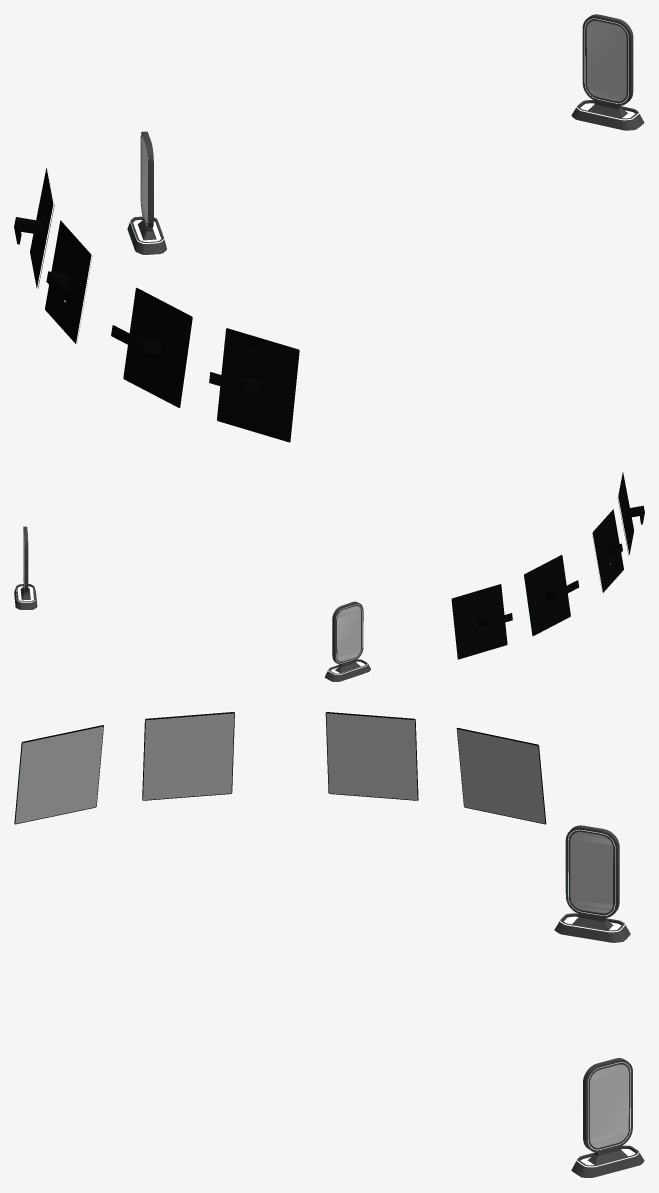
The model's file is Banner_moon (1).fbx.
The picture shows the model from 3 angles, top to bottom: view 1: azimuth 30°, elevation 25°; view 2: azimuth 150°, elevation 25°; view 3: azimuth 270°, elevation 25°; orthographic projection. The views are drawn at different scales.
Parts seen in each view (by area): view 1: Cars_Screen_007, Cars_Screen_008, SM_TRAFFIC_LAMP_003, Cars_Screen_006, SM_TRAFFIC_LAMP_001, Cars_Screen_002; view 2: Cars_Screen_002, Cars_Screen_006, SM_TRAFFIC_LAMP_001, Cars_Screen_008, SM_TRAFFIC_LAMP_003, Cars_Screen_007; view 3: Cars_Screen_008, Cars_Screen_006, Cars_Screen_007, Cars_Screen_002, SM_TRAFFIC_LAMP_001, SM_TRAFFIC_LAMP_003.
Boxes of the visible parts, left/top/right/bottom form: Cars_Screen_007: left=209, top=328, right=299, bottom=442; Cars_Screen_008: left=111, top=287, right=193, bottom=408; SM_TRAFFIC_LAMP_003: left=571, top=14, right=644, bottom=131; Cars_Screen_006: left=45, top=220, right=92, bottom=344; SM_TRAFFIC_LAMP_001: left=127, top=131, right=167, bottom=255; Cars_Screen_002: left=14, top=167, right=54, bottom=288; Cars_Screen_002: left=451, top=584, right=512, bottom=659; Cars_Screen_006: left=523, top=554, right=579, bottom=636; SM_TRAFFIC_LAMP_001: left=324, top=601, right=371, bottom=682; Cars_Screen_008: left=592, top=509, right=623, bottom=592; SM_TRAFFIC_LAMP_003: left=14, top=526, right=37, bottom=610; Cars_Screen_007: left=617, top=471, right=644, bottom=555; Cars_Screen_008: left=142, top=711, right=234, bottom=800; Cars_Screen_006: left=325, top=711, right=418, bottom=800; Cars_Screen_007: left=14, top=724, right=103, bottom=824; Cars_Screen_002: left=456, top=727, right=546, bottom=824; SM_TRAFFIC_LAMP_001: left=554, top=825, right=630, bottom=943; SM_TRAFFIC_LAMP_003: left=571, top=1058, right=644, bottom=1178.
Bounding box in the file's own units: 4662 × 796 × 3531.
